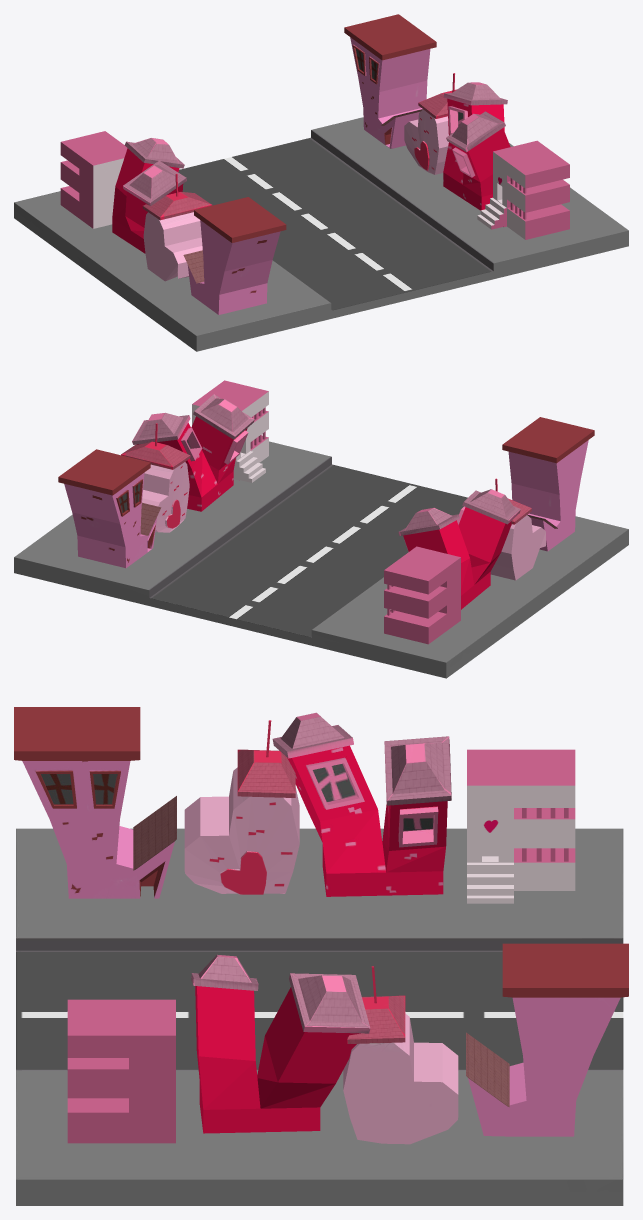
File: town1.fbx
3 renders of one model, top to bottom at view 1: azimuth 30°, elevation 25°; view 2: azimuth 150°, elevation 25°; view 3: azimuth 270°, elevation 25°, orthographic. The views are drawn at different scales.
Visible parts, largest first — view 1: polySurface13; view 2: polySurface13; view 3: polySurface13.
Part boxes in pixels (x1=…): polySurface13: x1=14, y1=14, x2=628, y2=351; polySurface13: x1=14, y1=380, x2=628, y2=678; polySurface13: x1=14, y1=707, x2=628, y2=1205.
Size of the model in its own units: 2645 by 647 by 1958.
